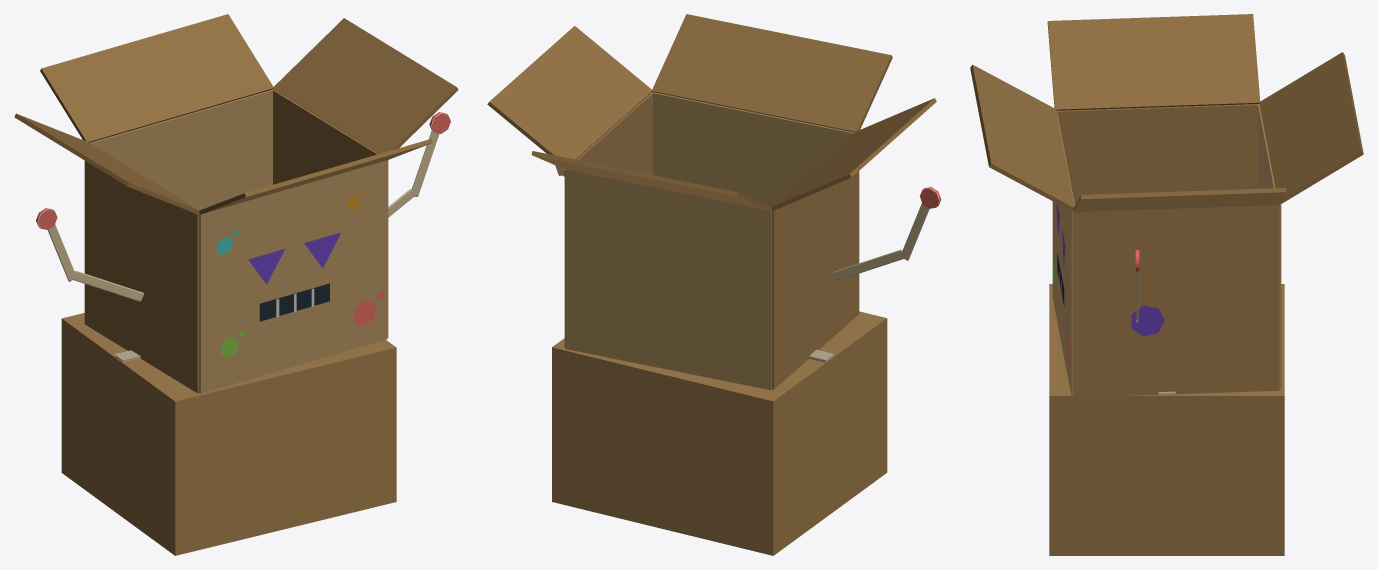
File: caixas_bracinhos.glb
3 renders of one model, left to right at view 1: azimuth 30°, elevation 25°; view 2: azimuth 150°, elevation 25°; view 3: azimuth 270°, elevation 25°, orthographic. The views are drawn at different scales.
Visible parts, largest first — view 1: caixa_cima_malha, caixa_baixo, bracinhos; view 2: caixa_cima_malha, caixa_baixo, bracinhos; view 3: caixa_cima_malha, caixa_baixo.
Boxes of the visible parts, x1,y1,x2,y2 form: caixa_cima_malha: [14, 14, 458, 393]; caixa_baixo: [61, 313, 396, 555]; bracinhos: [36, 112, 450, 301]; caixa_cima_malha: [487, 14, 936, 390]; caixa_baixo: [552, 311, 887, 555]; bracinhos: [555, 165, 941, 280]; caixa_cima_malha: [970, 14, 1363, 397]; caixa_baixo: [1049, 284, 1284, 555].
Size of the model in its own units: 1.68 by 1.5 by 1.34.
